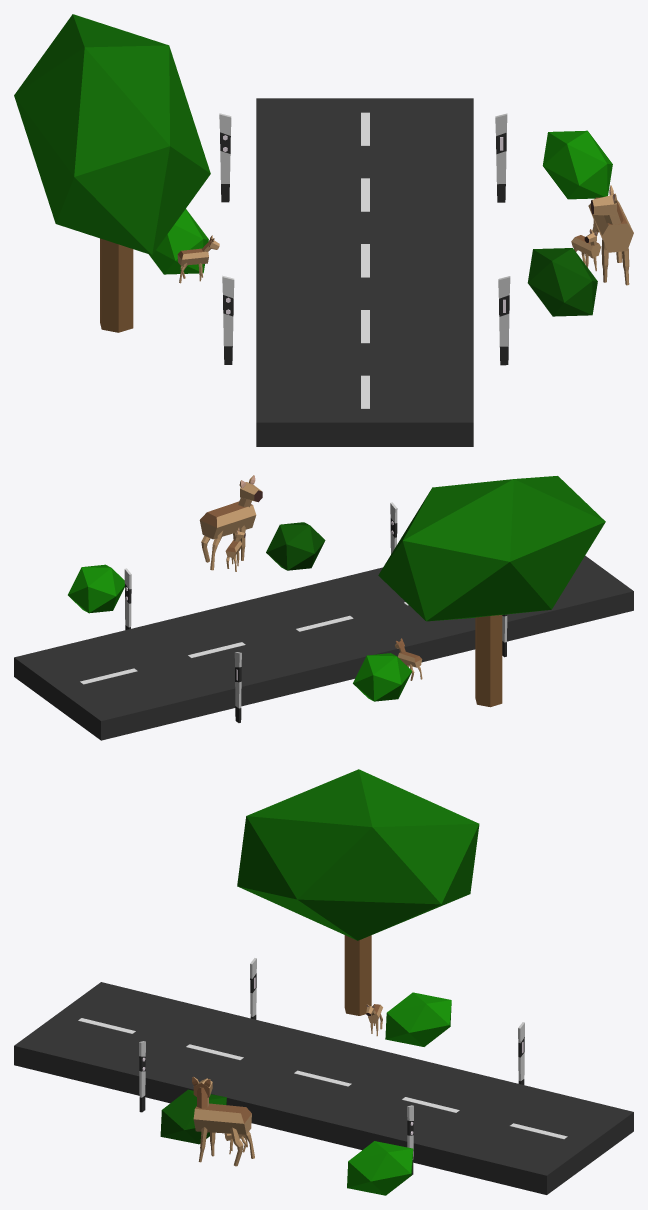
File: street2_03_3.fbx
The picture shows the model from 3 angles, top to bottom: view 1: azimuth 30°, elevation 25°; view 2: azimuth 150°, elevation 25°; view 3: azimuth 270°, elevation 25°; orthographic projection. The views are drawn at different scales.
Visible parts, largest first — view 1: street03.003, tree.002, bush.025, bush.024, bambi, bush.026, penguin.010, penguin.011, laneMarkings.003, bambiKitz02, bambiKitz; view 2: street03.003, tree.002, bambi, bush.026, bush.025, bush.024, penguin.010, laneMarkings.003, penguin.011, bambiKitz02, bambiKitz; view 3: street03.003, tree.002, bush.024, bush.026, bambi, bush.025, laneMarkings.003, penguin.011, penguin.010.
Part boxes in pixels (box(x1,y1,x2,y2)): street03.003: box(256, 98, 473, 446); tree.002: box(14, 14, 210, 332); bush.025: box(527, 248, 597, 316); bush.024: box(542, 130, 612, 199); bambi: box(588, 185, 633, 285); bush.026: box(149, 209, 208, 274); penguin.010: box(495, 113, 510, 365); penguin.011: box(219, 113, 234, 364); laneMarkings.003: box(361, 112, 369, 408); bambiKitz02: box(177, 235, 219, 283); bambiKitz: box(571, 229, 600, 271); street03.003: box(14, 555, 633, 740); tree.002: box(378, 476, 605, 707); bambi: box(199, 475, 262, 570); bush.026: box(353, 653, 412, 701); bush.025: box(266, 522, 325, 570); bush.024: box(68, 564, 124, 613); penguin.010: box(124, 502, 397, 629); laneMarkings.003: box(80, 602, 408, 684); penguin.011: box(234, 614, 507, 722); bambiKitz02: box(395, 638, 422, 680); bambiKitz: box(225, 528, 245, 571); street03.003: box(14, 982, 633, 1194); tree.002: box(237, 769, 479, 1015); bush.024: box(347, 1141, 413, 1195); bush.026: box(385, 992, 451, 1046); bambi: box(192, 1077, 254, 1166); bush.025: box(160, 1089, 226, 1144); laneMarkings.003: box(78, 1018, 567, 1139); penguin.011: box(250, 958, 524, 1084); penguin.010: box(139, 1041, 413, 1174).
Bounding box in the file's own units: 88.7 × 40.74 × 99.3.
